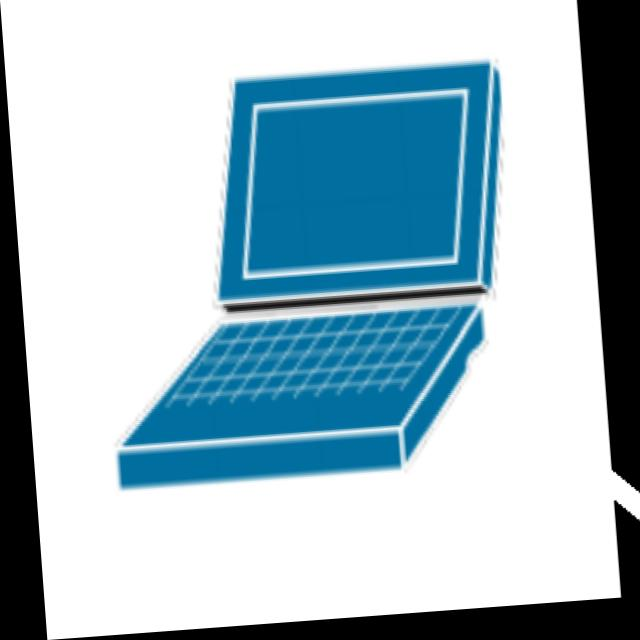Client: (66, 17, 548, 513)
